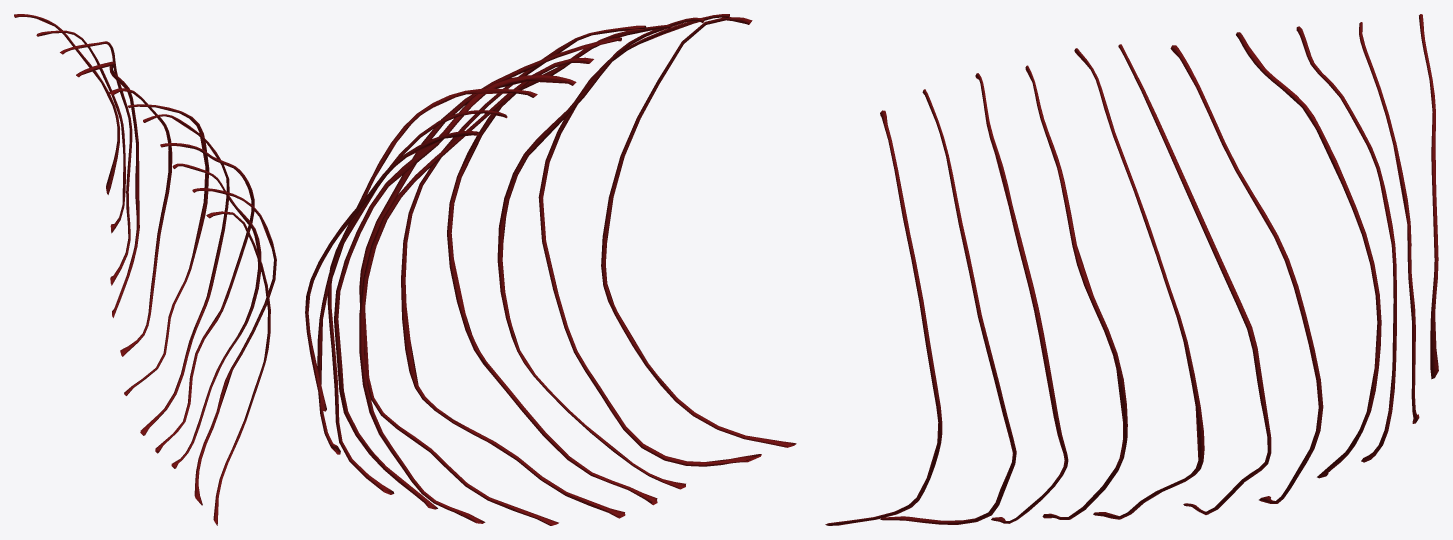
Rendered from L rami intercostales ventrales.fbx.
The picture shows the model from 3 angles, left to right: view 1: azimuth 30°, elevation 25°; view 2: azimuth 150°, elevation 25°; view 3: azimuth 270°, elevation 25°; orthographic projection. The views are drawn at different scales.
Parts seen in each view (by area): view 1: L rami intercostales ventrales, L rami intercostales ventrales low; view 2: L rami intercostales ventrales, L rami intercostales ventrales low; view 3: L rami intercostales ventrales, L rami intercostales ventrales low.
Boxes of the visible parts, bbox=[...] form: L rami intercostales ventrales: bbox=[14, 14, 276, 525]; L rami intercostales ventrales low: bbox=[14, 14, 275, 524]; L rami intercostales ventrales: bbox=[305, 14, 796, 525]; L rami intercostales ventrales low: bbox=[305, 14, 795, 522]; L rami intercostales ventrales: bbox=[826, 14, 1438, 525]; L rami intercostales ventrales low: bbox=[825, 25, 1438, 525].
Size of the model in its own units: 16.32 by 39.91 by 43.13.
